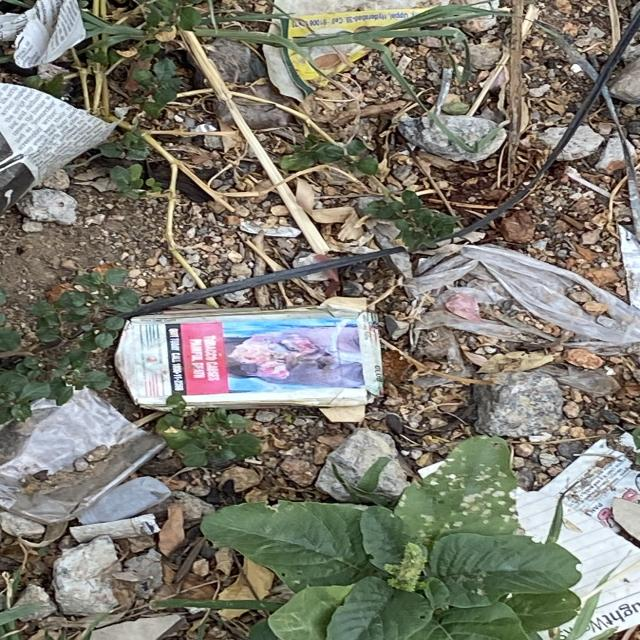giay: (0, 83, 115, 209), (559, 504, 640, 640), (540, 434, 640, 531), (270, 0, 447, 37), (263, 39, 368, 99), (0, 0, 84, 67), (516, 492, 558, 542)
ly_hop_giay: (114, 305, 382, 409)
nhua: (461, 245, 640, 343), (0, 389, 144, 480), (408, 255, 479, 295)
